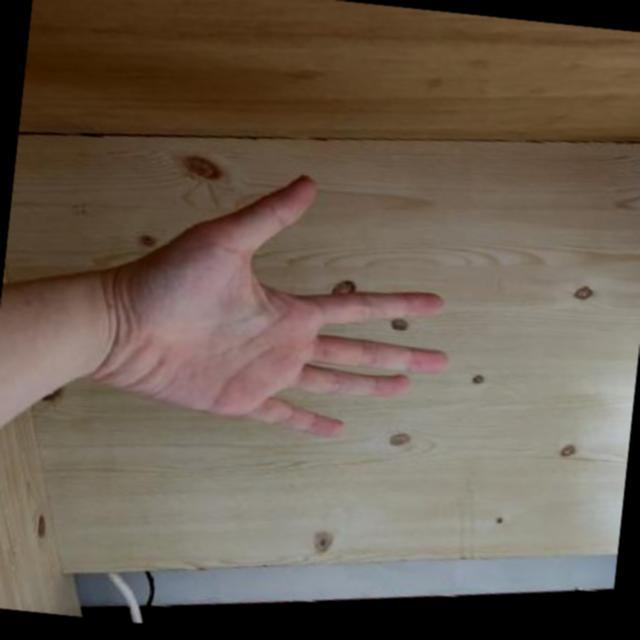hand: (46, 135, 490, 488)
